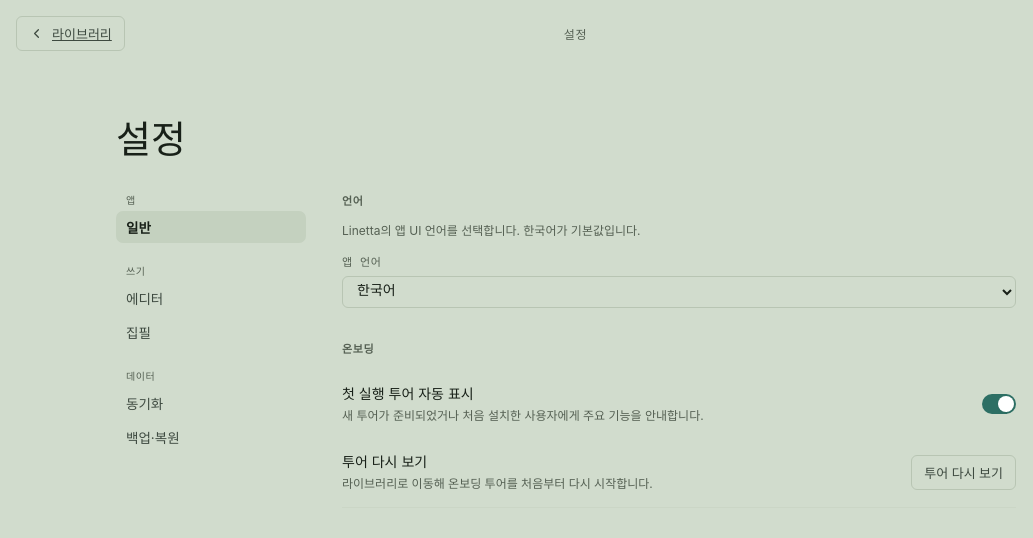
Test case: Settings › defaults to Korean and switches the settings UI to English
Select "English" in the dropdown labelled "앱 언어" at (679, 292), box [342,276,1016,308]
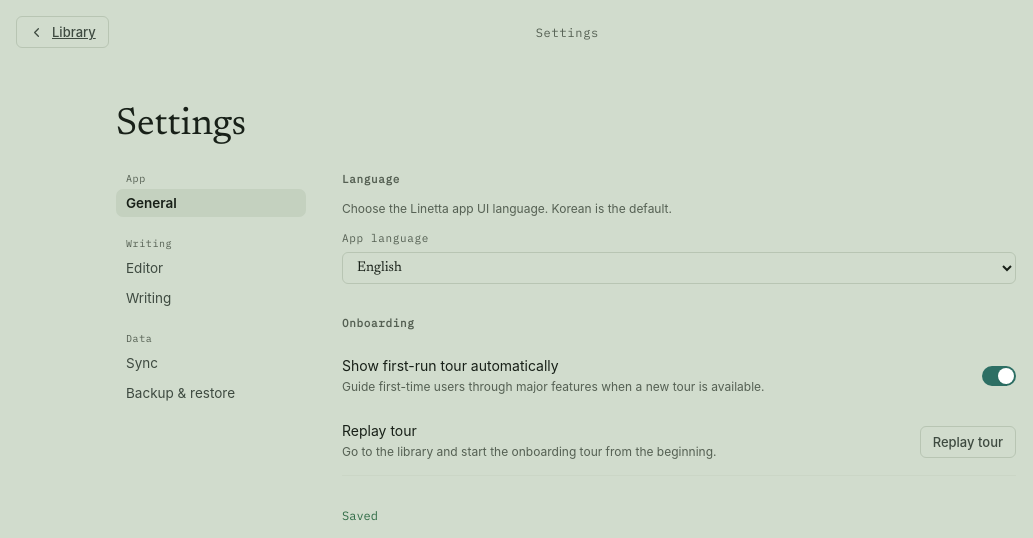
Expected: the heading "Settings" is shown, [116,106,246,144]
